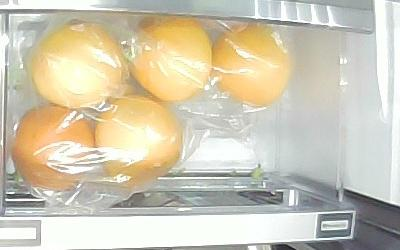grapefruit_vinyl: (30, 19, 126, 107), (96, 95, 182, 188), (128, 14, 214, 102), (11, 105, 95, 193), (213, 21, 289, 106)
